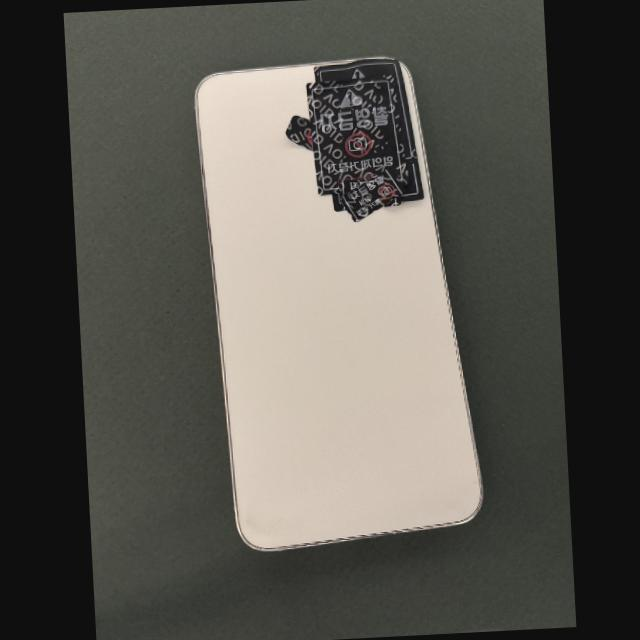phone: (195, 57, 482, 551)
sticker: (314, 59, 423, 202), (306, 74, 410, 195), (339, 168, 408, 223), (286, 116, 314, 153), (339, 180, 368, 195)
